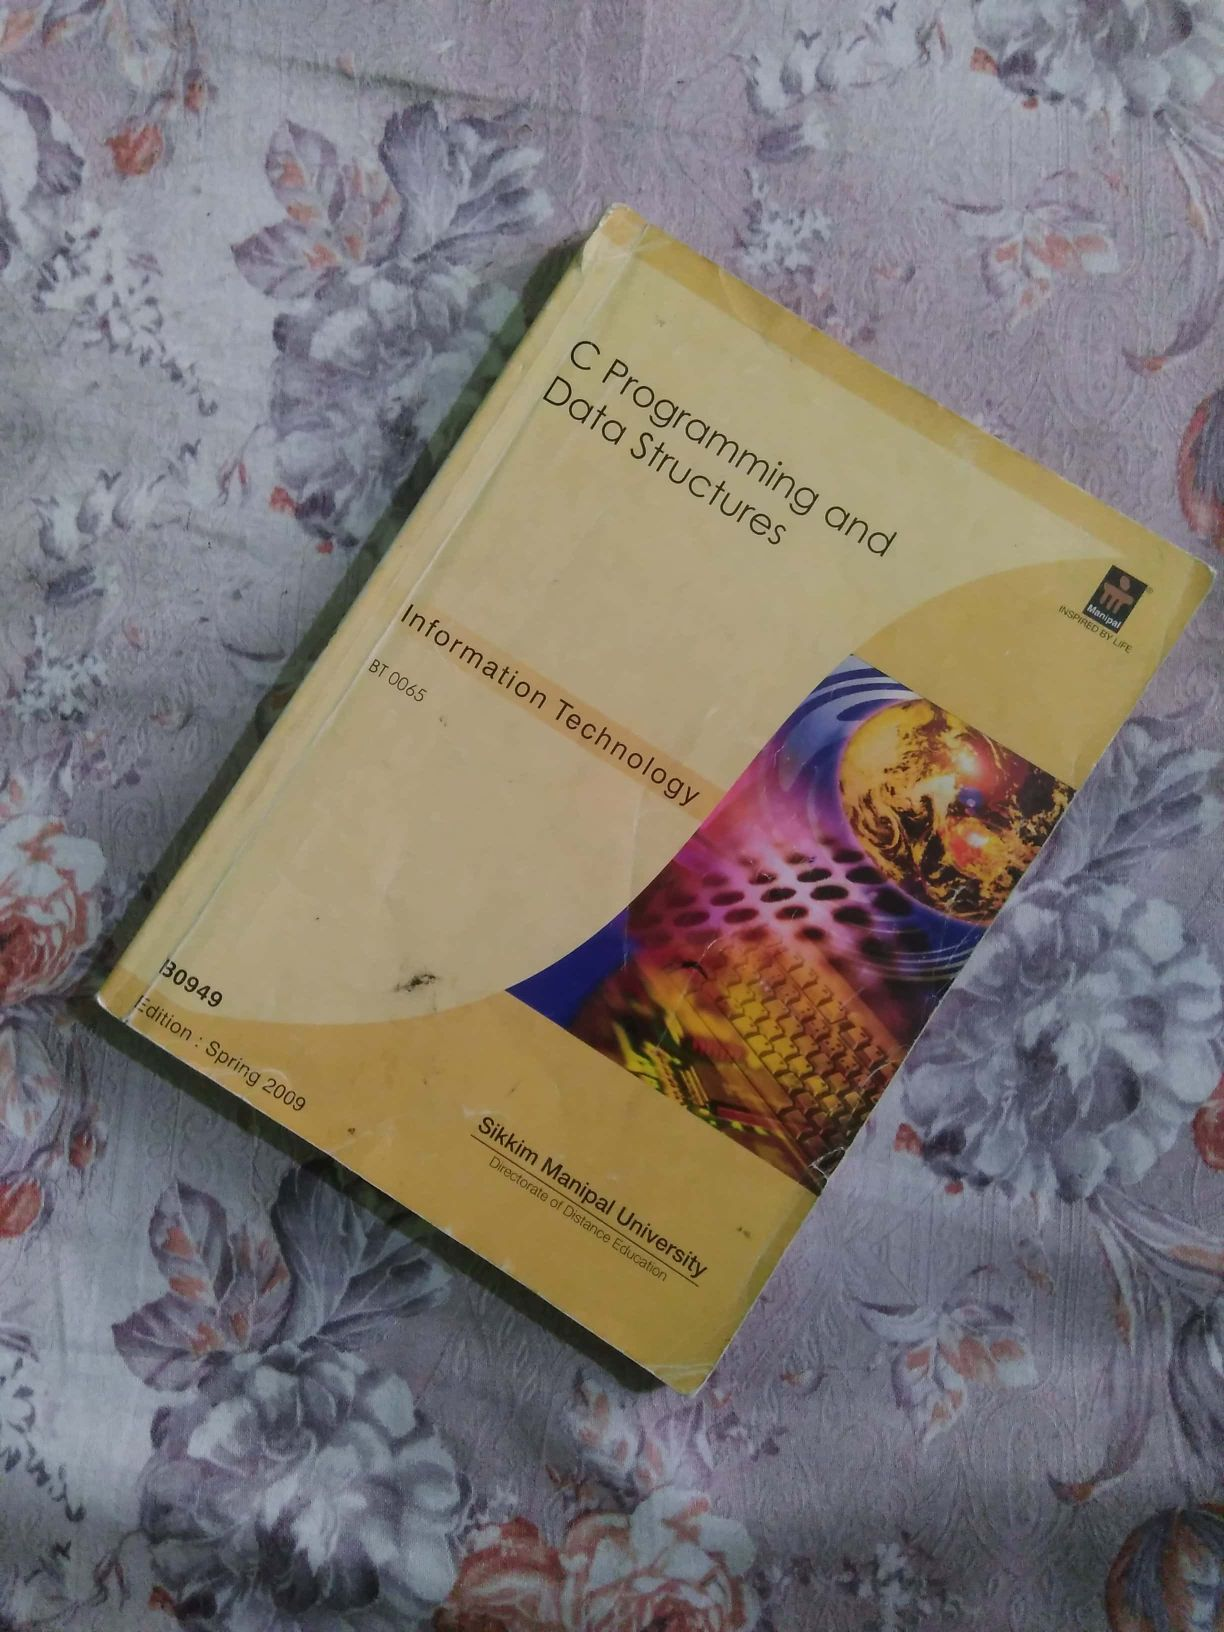clang: (131, 244, 1153, 1307)
